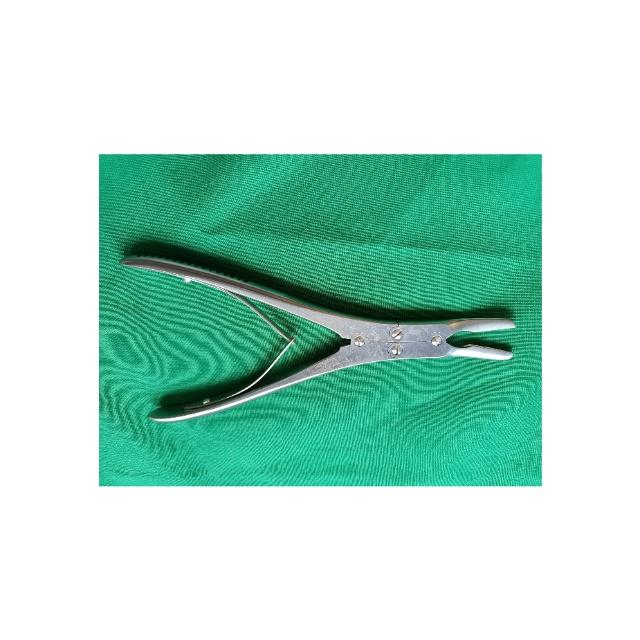gubia: (122, 242, 514, 423)
